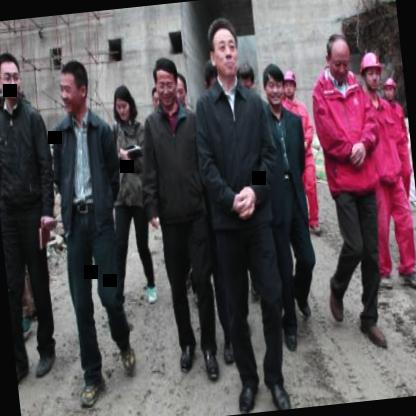head: (202, 14, 243, 84), (54, 54, 94, 122), (147, 53, 180, 110), (257, 57, 289, 113), (320, 29, 354, 80), (107, 78, 137, 132), (0, 46, 26, 103), (233, 58, 258, 100), (172, 70, 191, 112), (0, 78, 7, 126)
helmet: (356, 47, 387, 94), (282, 66, 299, 100)
